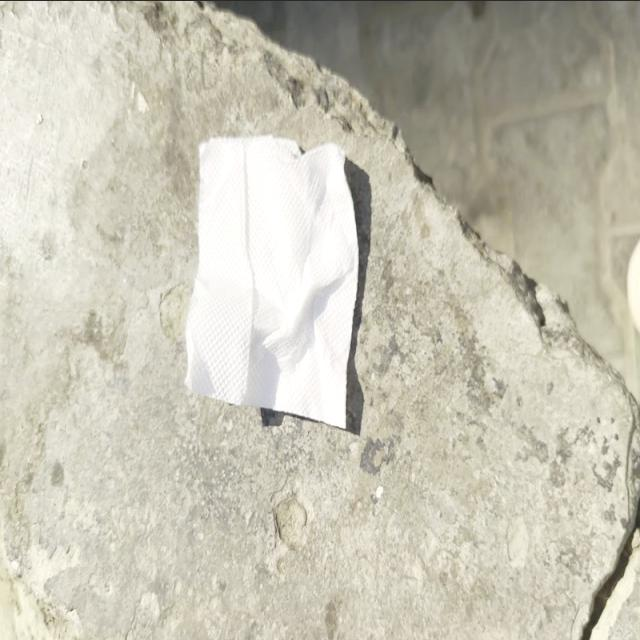tissue: (185, 128, 362, 452)
